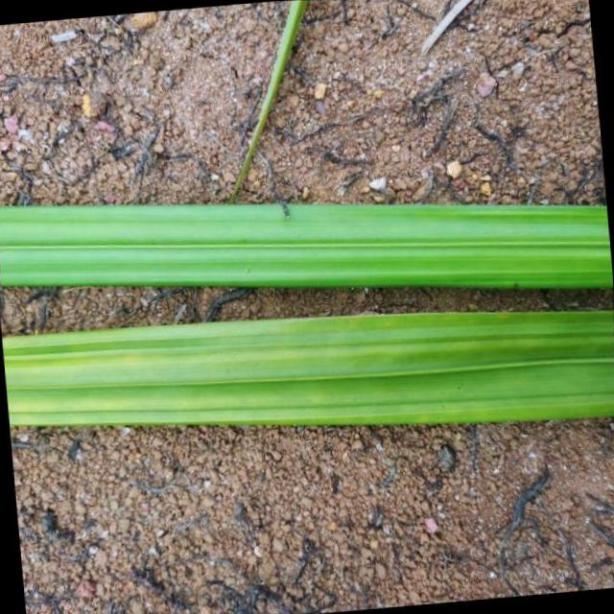nitrogen: (0, 310, 614, 427), (0, 203, 614, 289)
